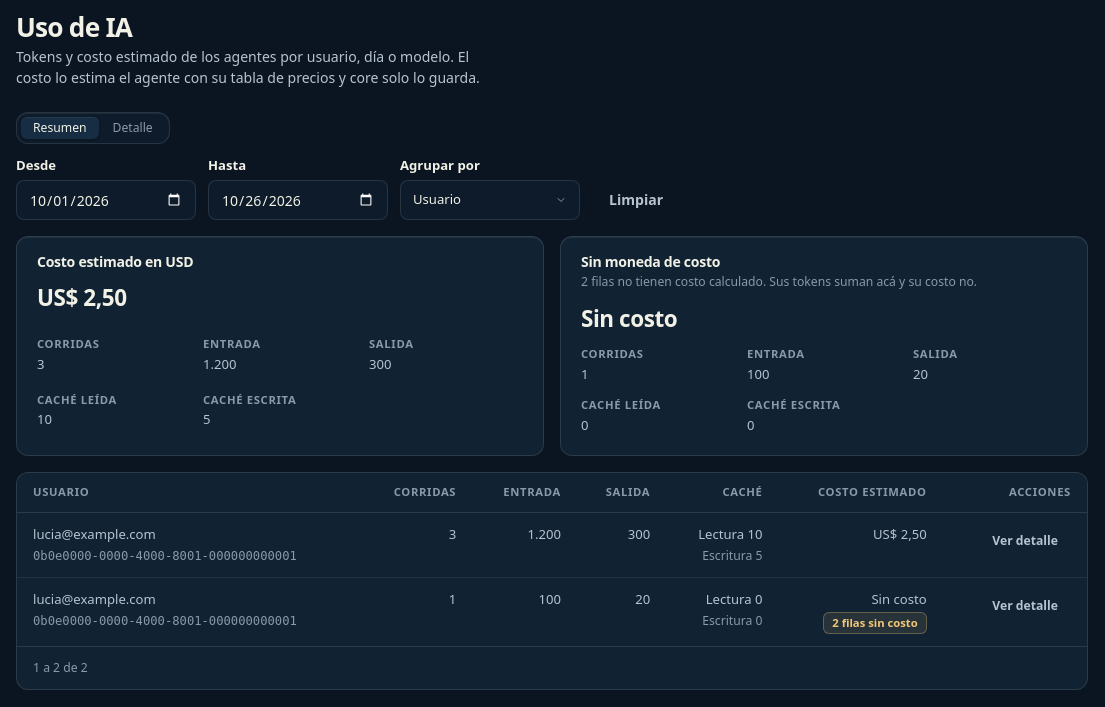
it: UsageScreen › opens the detail of a user from the summary
Click the 1st link "Ver detalle".
click(1025, 540)  # box left=992, top=532, right=1058, bottom=549
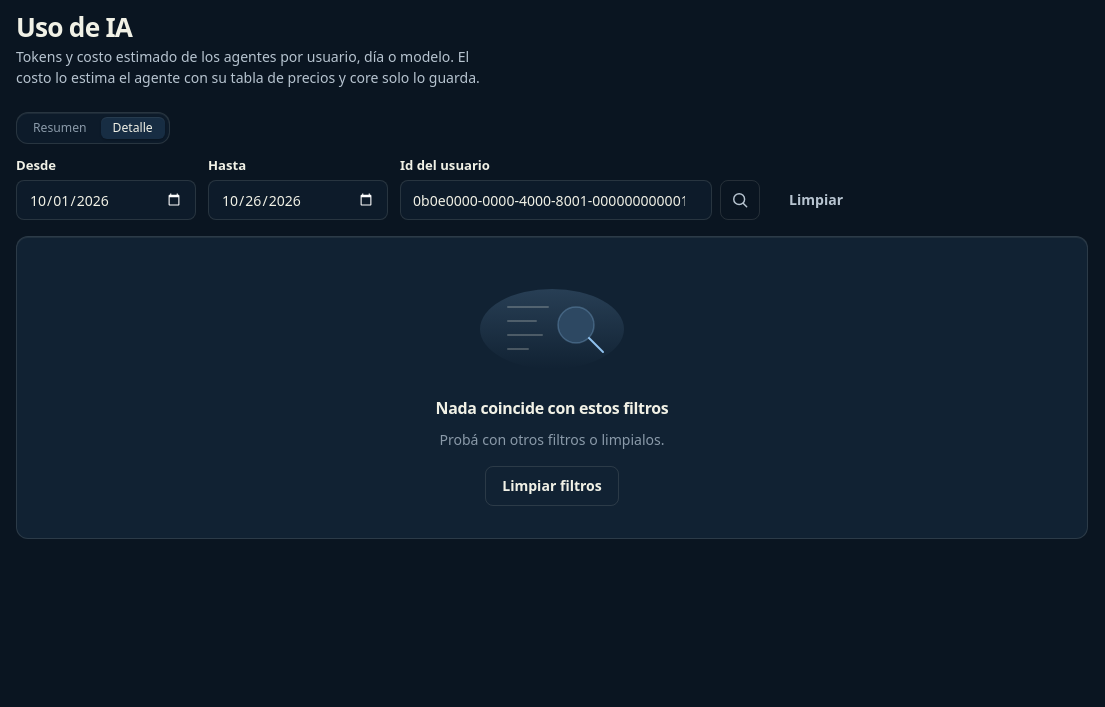
Check: the text "Nada coincide con estos filtros" is shown, box left=436, top=397, right=668, bottom=421
